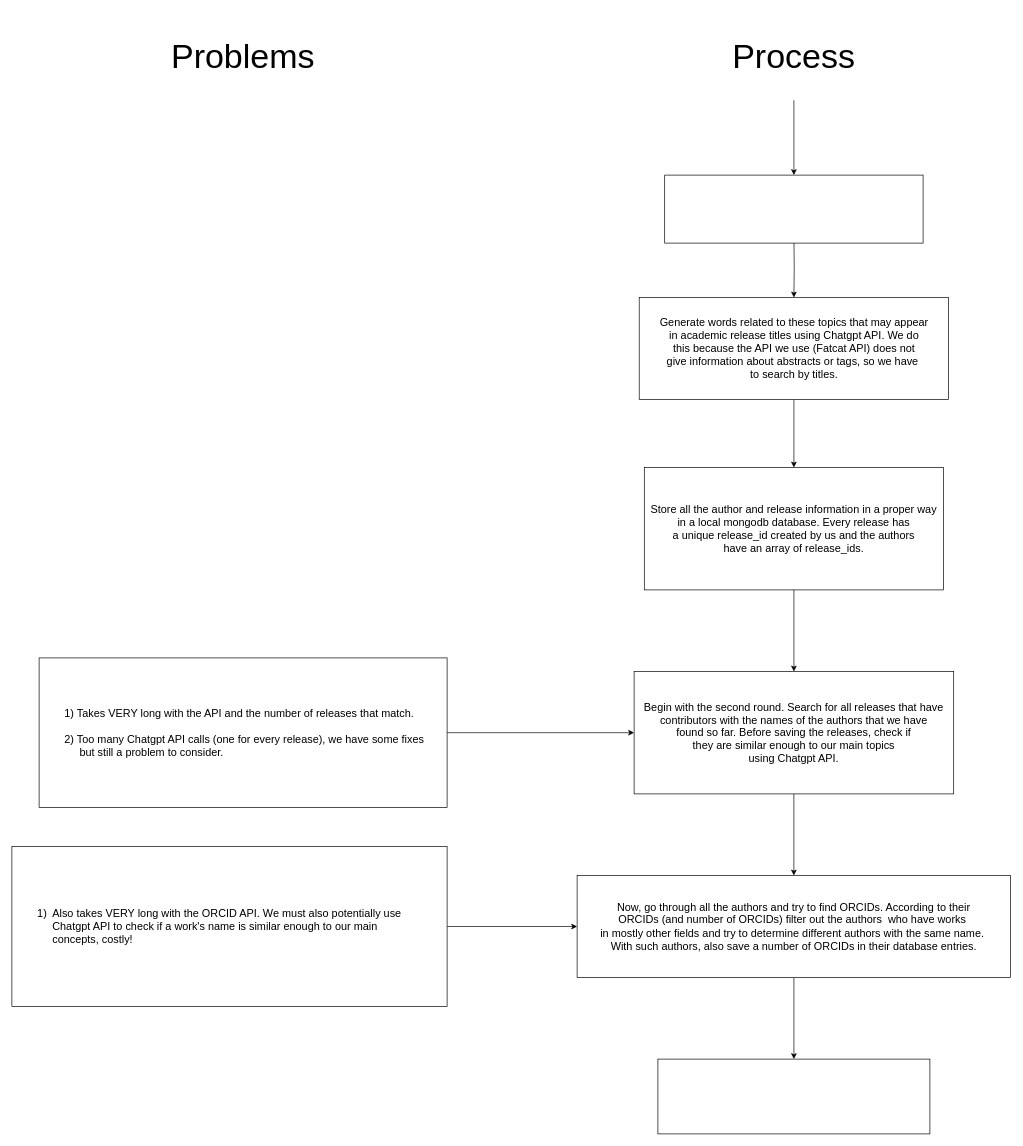
Image size: 1023x1146. Some labels were removed from this diagram. Here are the shapes that lost their labels. From the top down, the box of each, then its label:
(664, 174, 923, 243): Get some concepts as input (the fields where we are searching for the talents)
(657, 1058, 930, 1134): Display the results using various filters
